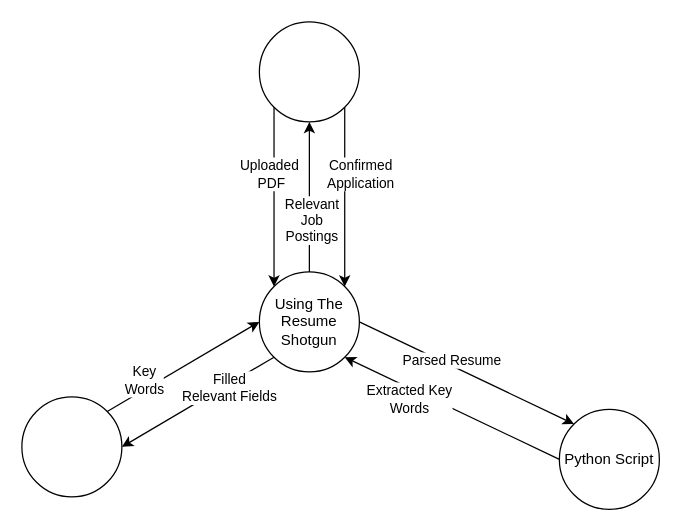
Image size: 681x531. Some labels were removed from this diagram. Here are the shapes that lost their labels. From the top down, the centre of each, then its label:
At pixel 308 71: "User/ GUI".
At pixel 71 446: "Job Board".
